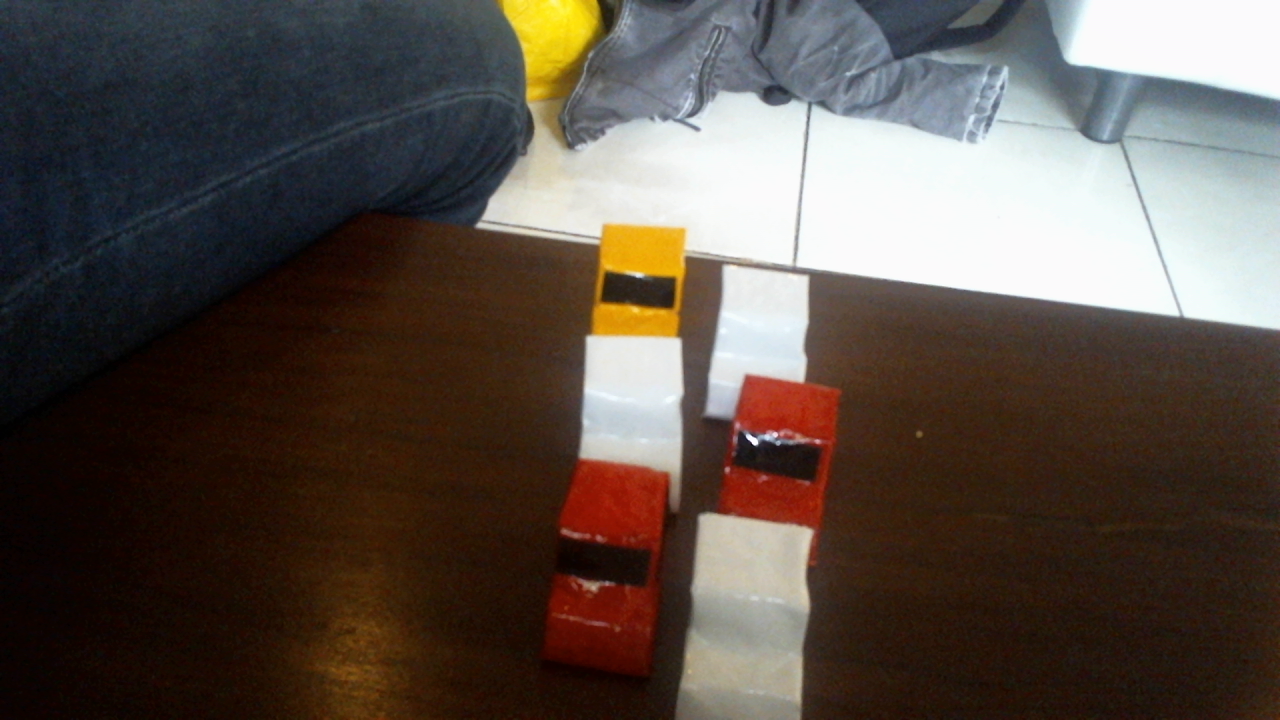Kijang Kapsul: (580, 206, 705, 341)
